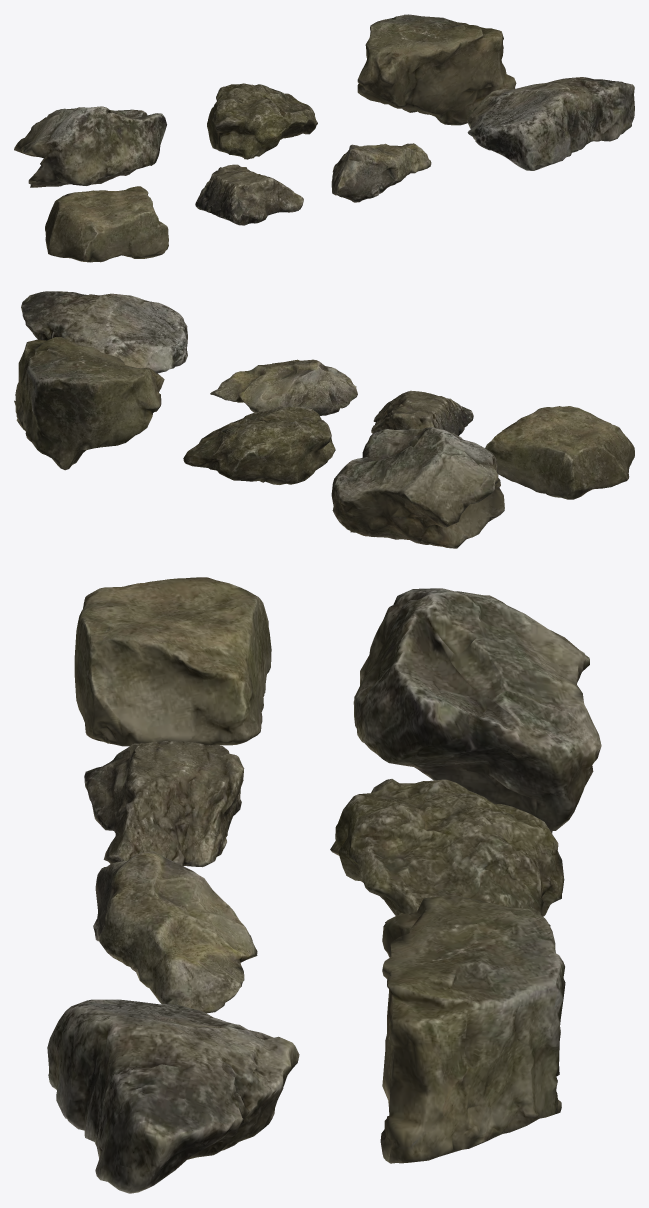
The model's file is mossrock_b_lod0.glb.
3 views of the same model, one above another, from view 1: azimuth 30°, elevation 25°; view 2: azimuth 150°, elevation 25°; view 3: azimuth 270°, elevation 25° (orthographic). The views are drawn at different scales.
Visible parts, largest first — view 1: rock_moss_set_02_rock13, rock_moss_set_02_rock10, rock_moss_set_02_rock11, rock_moss_set_02_rock07, rock_moss_set_02_rock12, rock_moss_set_02_rock08, rock_moss_set_02_rock09; view 2: rock_moss_set_02_rock11, rock_moss_set_02_rock13, rock_moss_set_02_rock07, rock_moss_set_02_rock10, rock_moss_set_02_rock12, rock_moss_set_02_rock09, rock_moss_set_02_rock08; view 3: rock_moss_set_02_rock13, rock_moss_set_02_rock11, rock_moss_set_02_rock10, rock_moss_set_02_rock07, rock_moss_set_02_rock12, rock_moss_set_02_rock09, rock_moss_set_02_rock08.
Part boxes in pixels (x1=…): rock_moss_set_02_rock13: x1=357, y1=14, x2=516, y2=125; rock_moss_set_02_rock10: x1=467, y1=77, x2=634, y2=170; rock_moss_set_02_rock11: x1=14, y1=106, x2=166, y2=187; rock_moss_set_02_rock07: x1=45, y1=186, x2=168, y2=262; rock_moss_set_02_rock12: x1=207, y1=83, x2=317, y2=159; rock_moss_set_02_rock08: x1=195, y1=164, x2=303, y2=225; rock_moss_set_02_rock09: x1=331, y1=143, x2=431, y2=202; rock_moss_set_02_rock11: x1=331, y1=427, x2=504, y2=548; rock_moss_set_02_rock13: x1=14, y1=337, x2=164, y2=470; rock_moss_set_02_rock07: x1=485, y1=406, x2=634, y2=499; rock_moss_set_02_rock10: x1=21, y1=291, x2=187, y2=373; rock_moss_set_02_rock12: x1=183, y1=406, x2=335, y2=484; rock_moss_set_02_rock09: x1=210, y1=359, x2=357, y2=415; rock_moss_set_02_rock08: x1=371, y1=390, x2=473, y2=435; rock_moss_set_02_rock13: x1=380, y1=895, x2=565, y2=1163; rock_moss_set_02_rock11: x1=353, y1=588, x2=601, y2=833; rock_moss_set_02_rock10: x1=47, y1=999, x2=299, y2=1193; rock_moss_set_02_rock07: x1=74, y1=577, x2=271, y2=746; rock_moss_set_02_rock12: x1=330, y1=779, x2=564, y2=926; rock_moss_set_02_rock09: x1=93, y1=851, x2=257, y2=1013; rock_moss_set_02_rock08: x1=84, y1=741, x2=244, y2=867.
Size of the model in its own units: 8.28 by 1.37 by 3.41.
1 material, 1 textured.
